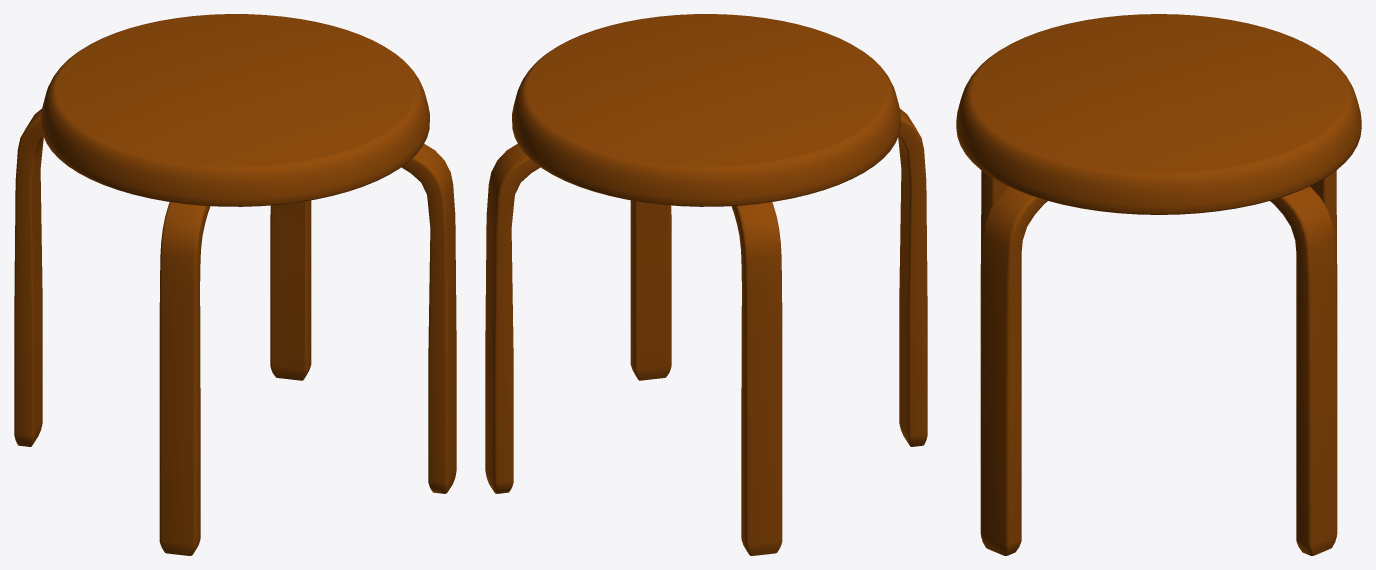
The model's file is Stool.fbx.
The picture shows the model from 3 angles, left to right: view 1: azimuth 30°, elevation 25°; view 2: azimuth 150°, elevation 25°; view 3: azimuth 270°, elevation 25°; orthographic projection. The views are drawn at different scales.
Visible parts, largest first — view 1: Stool; view 2: Stool; view 3: Stool.
Boxes of the visible parts, x1,y1,x2,y2 form: Stool: [14, 14, 456, 555]; Stool: [485, 14, 927, 555]; Stool: [956, 14, 1361, 555].
Size of the model in its own units: 0.4868 by 0.516 by 0.4868.
